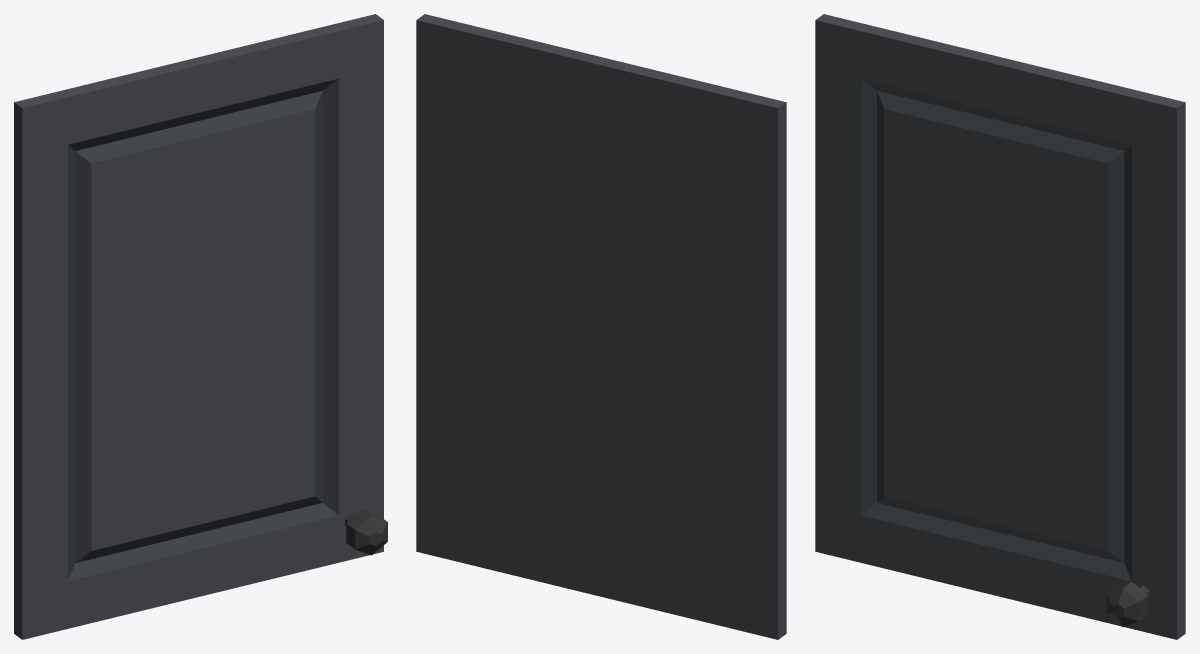
The model's file is Wardrobe7_C2_09.fbx.
The picture shows the model from 3 angles, left to right: view 1: azimuth 30°, elevation 25°; view 2: azimuth 150°, elevation 25°; view 3: azimuth 330°, elevation 25°; orthographic projection.
Parts seen in each view (by area): view 1: Wardrobe7_C2_09; view 2: Wardrobe7_C2_09; view 3: Wardrobe7_C2_09.
Boxes of the visible parts, left/top/right/bottom form: Wardrobe7_C2_09: left=14, top=14, right=387, bottom=639; Wardrobe7_C2_09: left=416, top=14, right=786, bottom=639; Wardrobe7_C2_09: left=815, top=14, right=1185, bottom=639.
Size of the model in its own units: 50 by 70.23 by 8.1.
